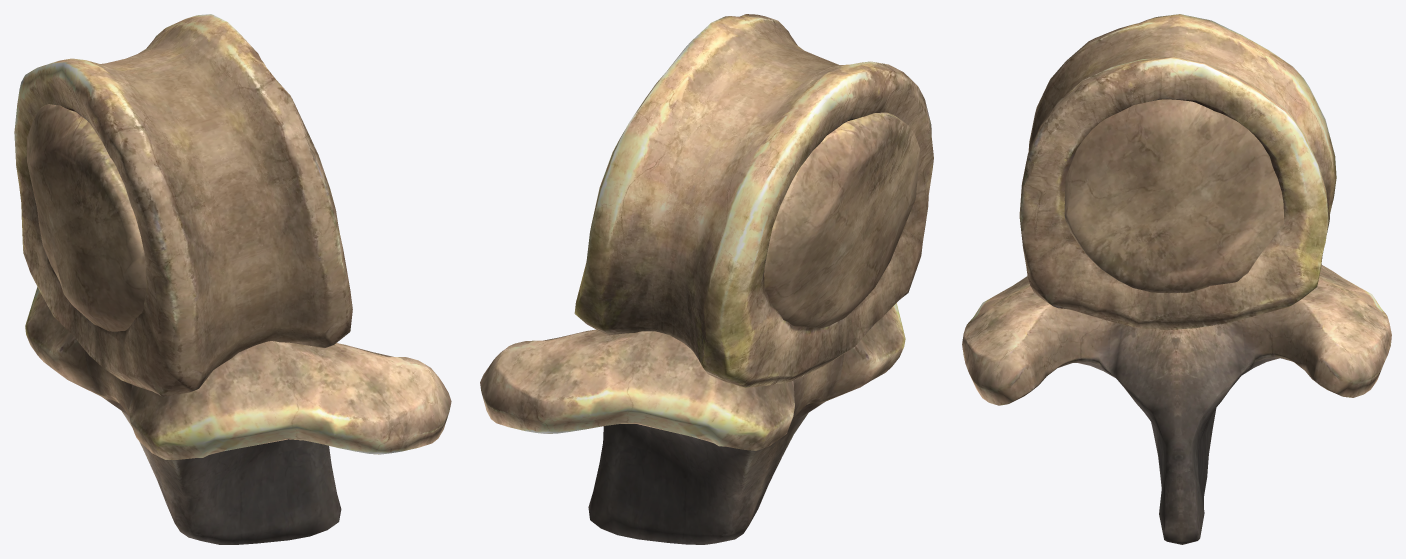
3 renders of one model, left to right at view 1: azimuth 30°, elevation 25°; view 2: azimuth 150°, elevation 25°; view 3: azimuth 270°, elevation 25°, orthographic. The views are drawn at different scales.
Parts seen in each view (by area): view 1: SM_Dragon_Rib_Bones_Single_04_LOD0; view 2: SM_Dragon_Rib_Bones_Single_04_LOD0; view 3: SM_Dragon_Rib_Bones_Single_04_LOD0.
Boxes of the visible parts, left/top/right/bottom form: SM_Dragon_Rib_Bones_Single_04_LOD0: left=14, top=14, right=451, bottom=544; SM_Dragon_Rib_Bones_Single_04_LOD0: left=480, top=14, right=933, bottom=544; SM_Dragon_Rib_Bones_Single_04_LOD0: left=962, top=14, right=1391, bottom=544.
Bounding box in the file's own units: 5.73 × 10.07 × 8.73.
Materials: 3 (3 with a texture image).
